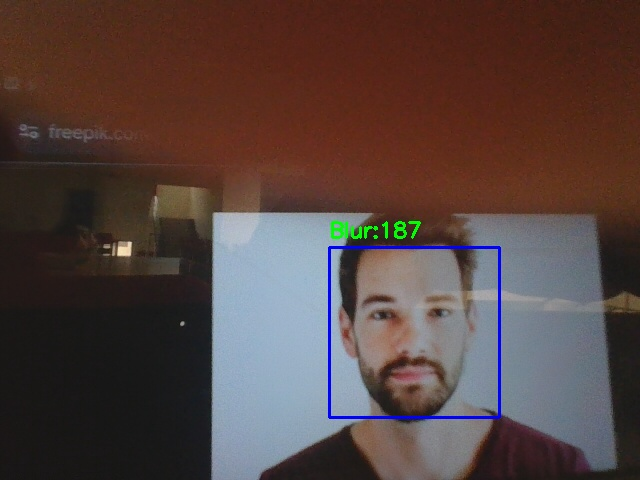fake: (329, 247, 499, 417)
